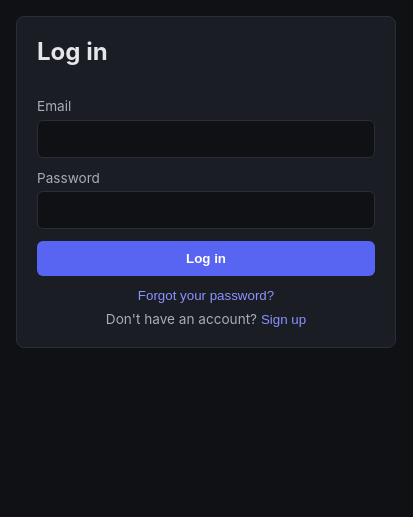
Scenario: sign up › checks the two passwords match before calling the server
Click the button "Sign up". click: (284, 319)
box: x1=261 y1=312 x2=306 y2=327
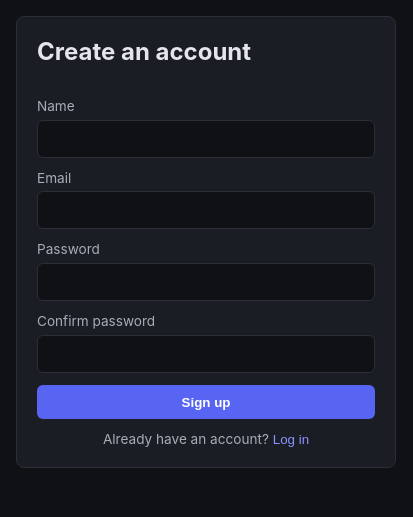
Type "Ada" into the field labelled "Name". click: (206, 139)
box: x1=37 y1=120 x2=375 y2=158
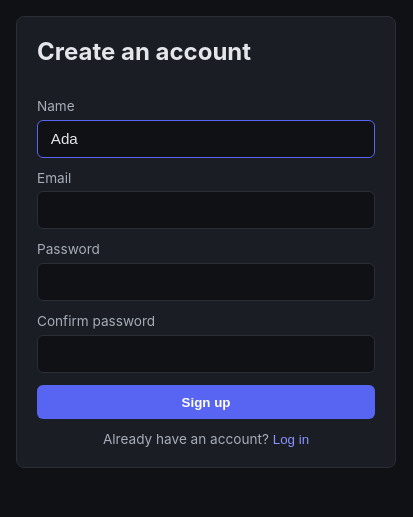
Type "ada@example.com" into the field labelled "Email". click: (206, 210)
box: x1=37 y1=191 x2=375 y2=230
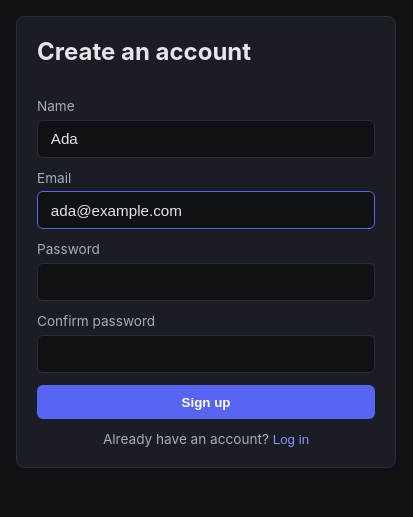
Type "password123" into the password field labelled "Password". click: (206, 282)
box: x1=37 y1=263 x2=375 y2=301
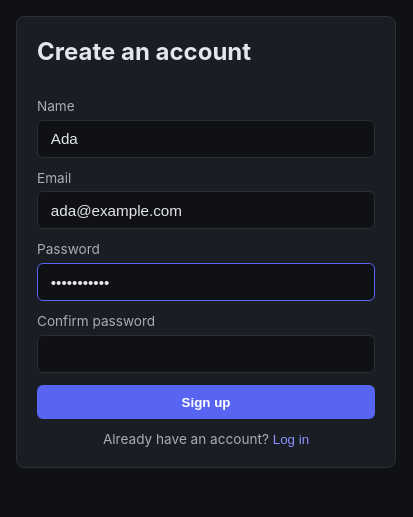
Type "password124" into the password field labelled "Confirm password". click: (206, 354)
box: x1=37 y1=335 x2=375 y2=373
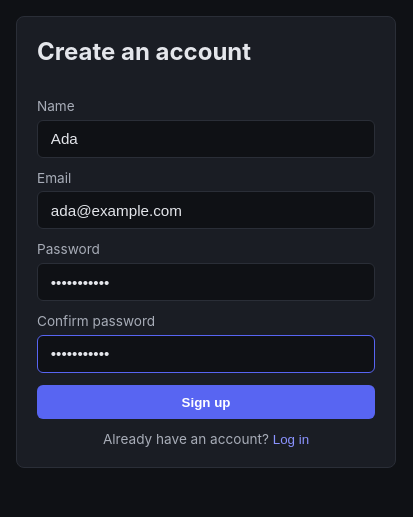
Click the button "Sign up". click: (206, 402)
box: x1=37 y1=385 x2=375 y2=419
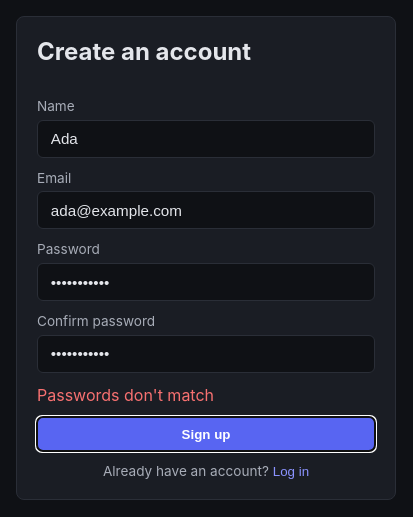
Check: the text "Passwords don't match" is shown, box x1=37 y1=385 x2=214 y2=405
